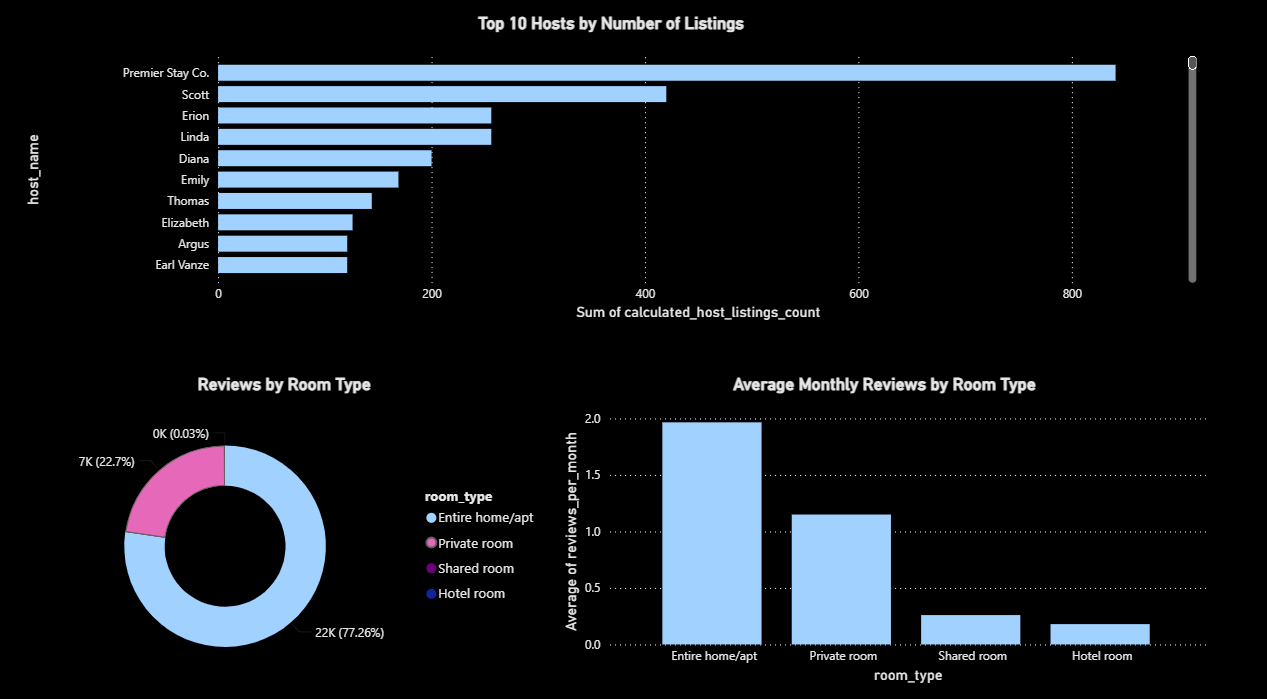

This screenshot's page, from the dashboard's own definition file:
{"tool":"powerbi","page":{"name":"Page 3","canvas":[1280,720],"ordinal":2},"visuals":[{"type":"barChart","title":"Top 10 Hosts by Number of Listings","fields":{"Category":["airbnb_cleaned_data.host_name"],"Y":["Sum(airbnb_cleaned_data.calculated_host_listings_count)"]},"box":[22.5,20,1181.2,312.5],"z":0},{"type":"donutChart","title":"Reviews by Room Type","fields":{"Category":["airbnb_cleaned_data.room_type"],"Y":["Sum(airbnb_cleaned_data.number_of_reviews)"]},"box":[22.5,381.2,527.5,313.8],"z":1},{"type":"columnChart","title":"Average Monthly Reviews by Room Type","fields":{"Category":["airbnb_cleaned_data.room_type"],"Y":["Avg(airbnb_cleaned_data.reviews_per_month)"]},"box":[560,381.2,653,314],"z":2}]}

Visuals, with their boxes in screenshot pixels (x1, y1, x2, y2), scaled from the page's 1280x720 canvas onto the 1267x699 screenshot:
"Top 10 Hosts by Number of Listings" barChart: BBox(22, 19, 1191, 323)
"Reviews by Room Type" donutChart: BBox(22, 370, 544, 675)
"Average Monthly Reviews by Room Type" columnChart: BBox(554, 370, 1201, 675)
